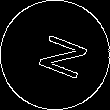N_W: (24, 27, 86, 82)
